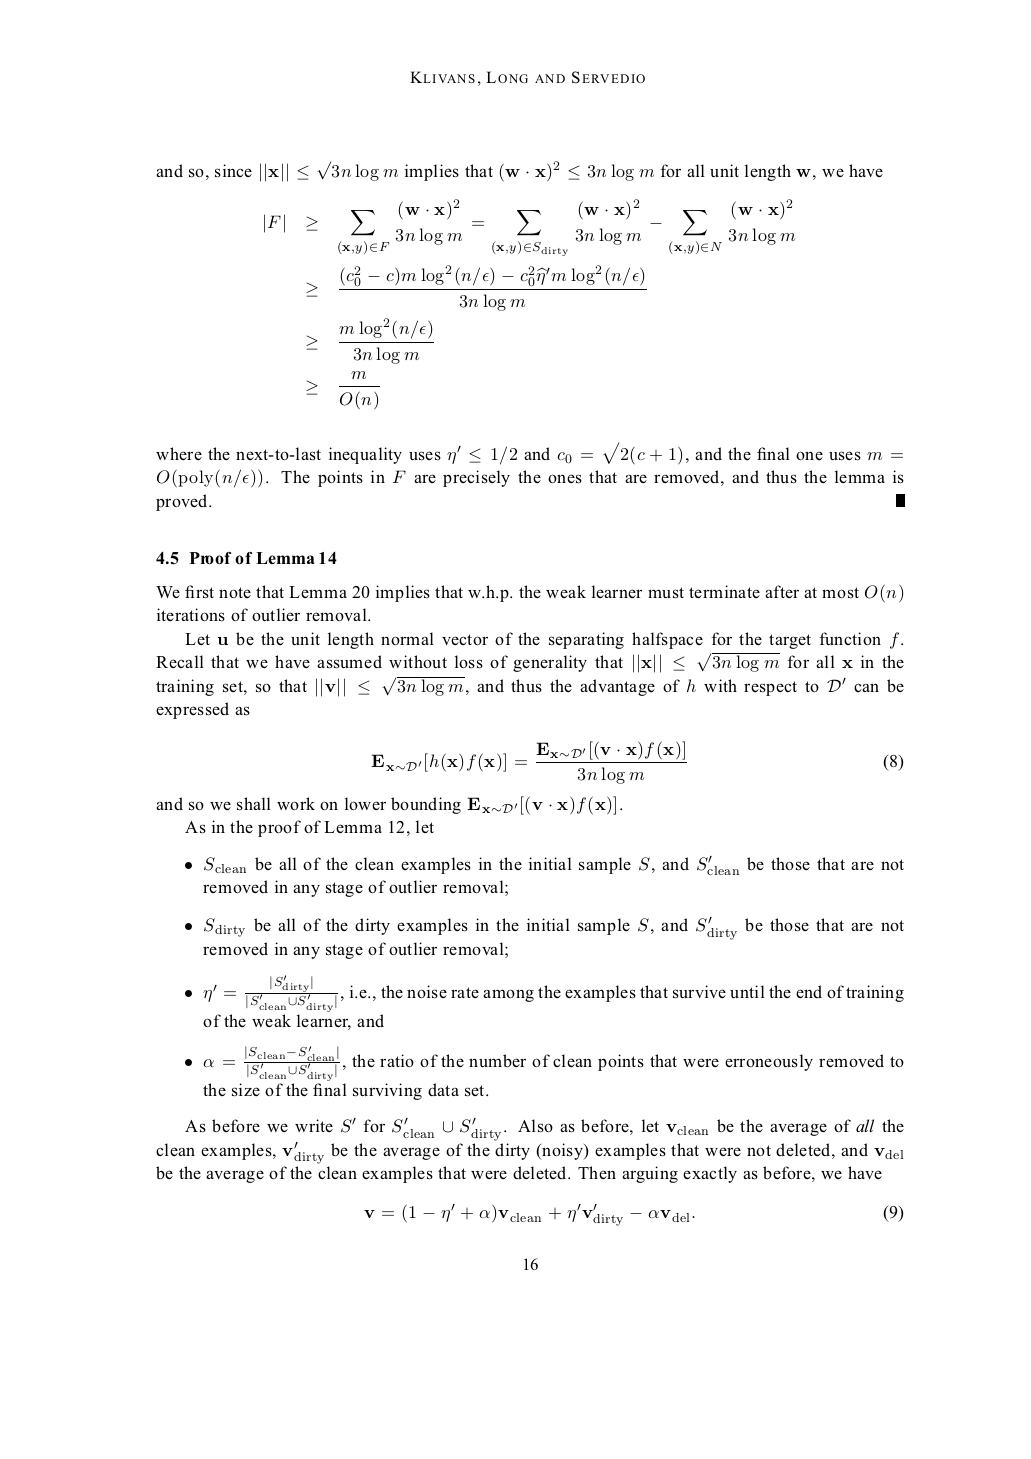formula: (264, 199, 794, 257), (370, 740, 903, 784), (306, 264, 646, 311), (364, 1202, 903, 1226), (306, 318, 433, 363), (306, 370, 379, 410)
